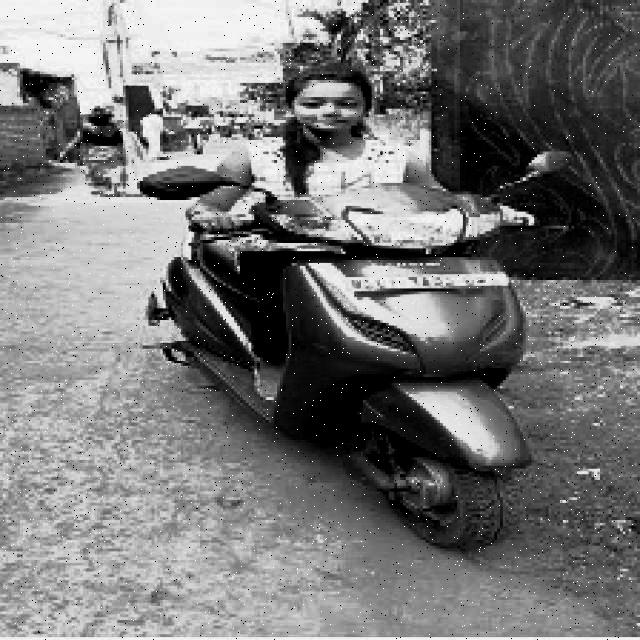Bike: (150, 181, 569, 557)
